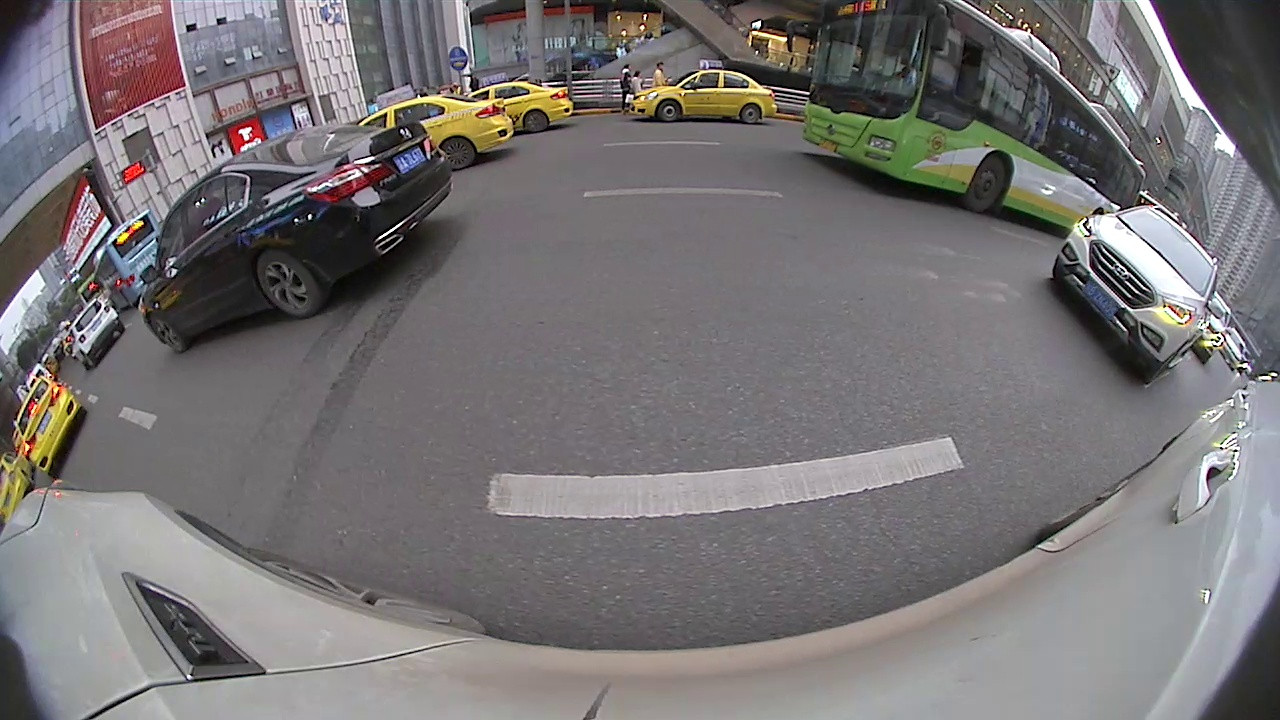bus: (801, 1, 1149, 238), (90, 210, 172, 311)
car: (140, 114, 457, 362), (1043, 209, 1226, 393), (354, 93, 514, 169), (624, 68, 782, 129), (13, 371, 84, 474), (468, 80, 581, 133), (64, 294, 124, 371), (1214, 329, 1254, 373)
front: (967, 154, 1008, 212), (148, 317, 187, 357), (657, 99, 682, 124)
rear: (256, 250, 324, 320), (439, 137, 477, 171), (522, 109, 548, 135), (740, 103, 762, 125)
